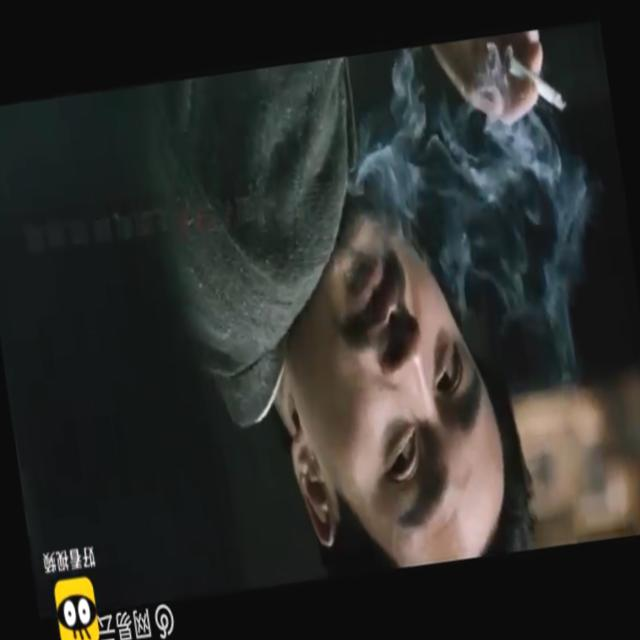smoke: (505, 49, 568, 124)
